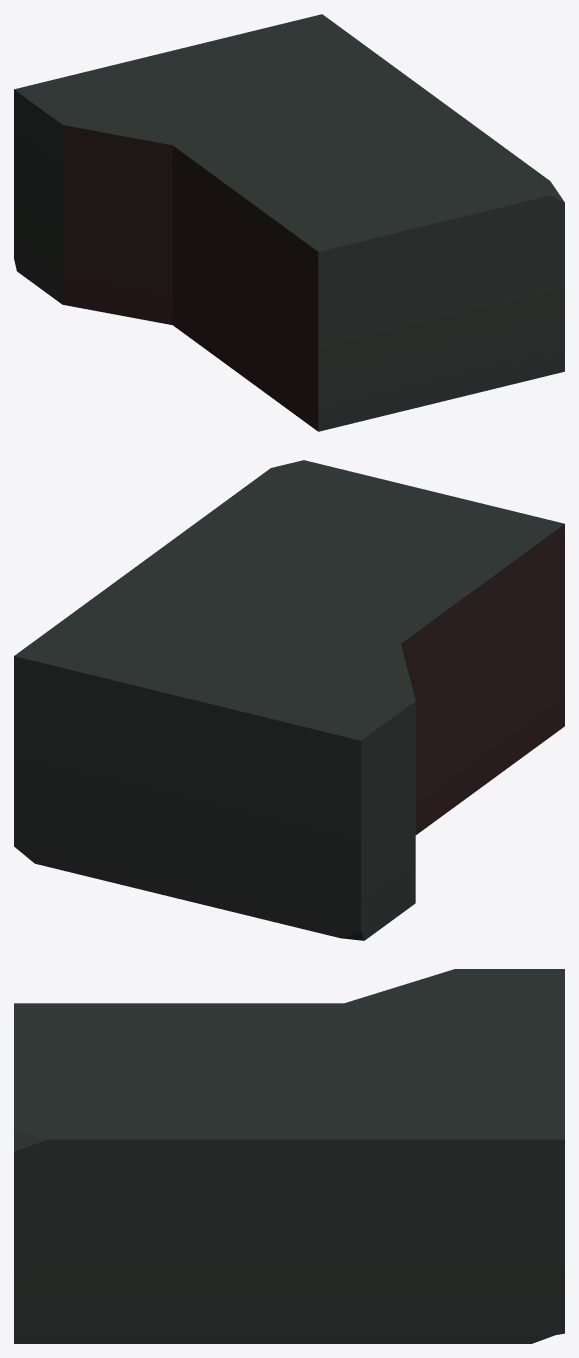
Rendered from SM_BrickRubble_02_Broke.fbx.
3 renders of one model, top to bottom at view 1: azimuth 30°, elevation 25°; view 2: azimuth 150°, elevation 25°; view 3: azimuth 270°, elevation 25°, orthographic. The views are drawn at different scales.
Parts seen in each view (by area): view 1: SM_BrickRubble_02_Broke; view 2: SM_BrickRubble_02_Broke; view 3: SM_BrickRubble_02_Broke.
Part boxes in pixels (x1,y1,x2,y2): SM_BrickRubble_02_Broke: [14, 14, 564, 431]; SM_BrickRubble_02_Broke: [14, 460, 564, 940]; SM_BrickRubble_02_Broke: [14, 969, 564, 1343].
Size of the model in its own units: 64.77 by 36.11 by 88.34.
1 material, 1 textured.
